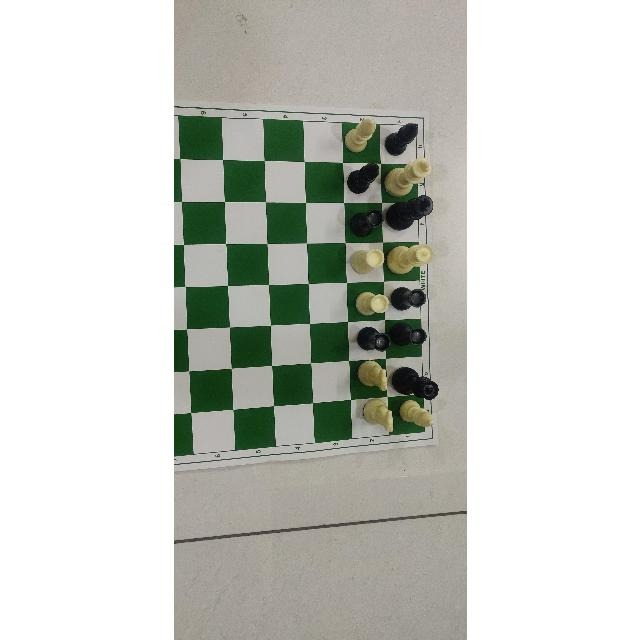black-bishop: (346, 161, 382, 196), (384, 122, 421, 155)
black-king: (386, 193, 436, 231)
black-queen: (394, 365, 439, 399)
black-rook: (355, 325, 393, 355), (349, 209, 385, 239), (391, 284, 428, 313), (390, 323, 428, 346)
white-bishop: (343, 119, 375, 153), (400, 400, 435, 431)
white-king: (383, 156, 431, 195)
white-knight: (360, 400, 396, 432), (357, 360, 389, 391)
white-queen: (387, 240, 431, 278)
white-rook: (346, 248, 383, 277), (354, 290, 390, 317)
